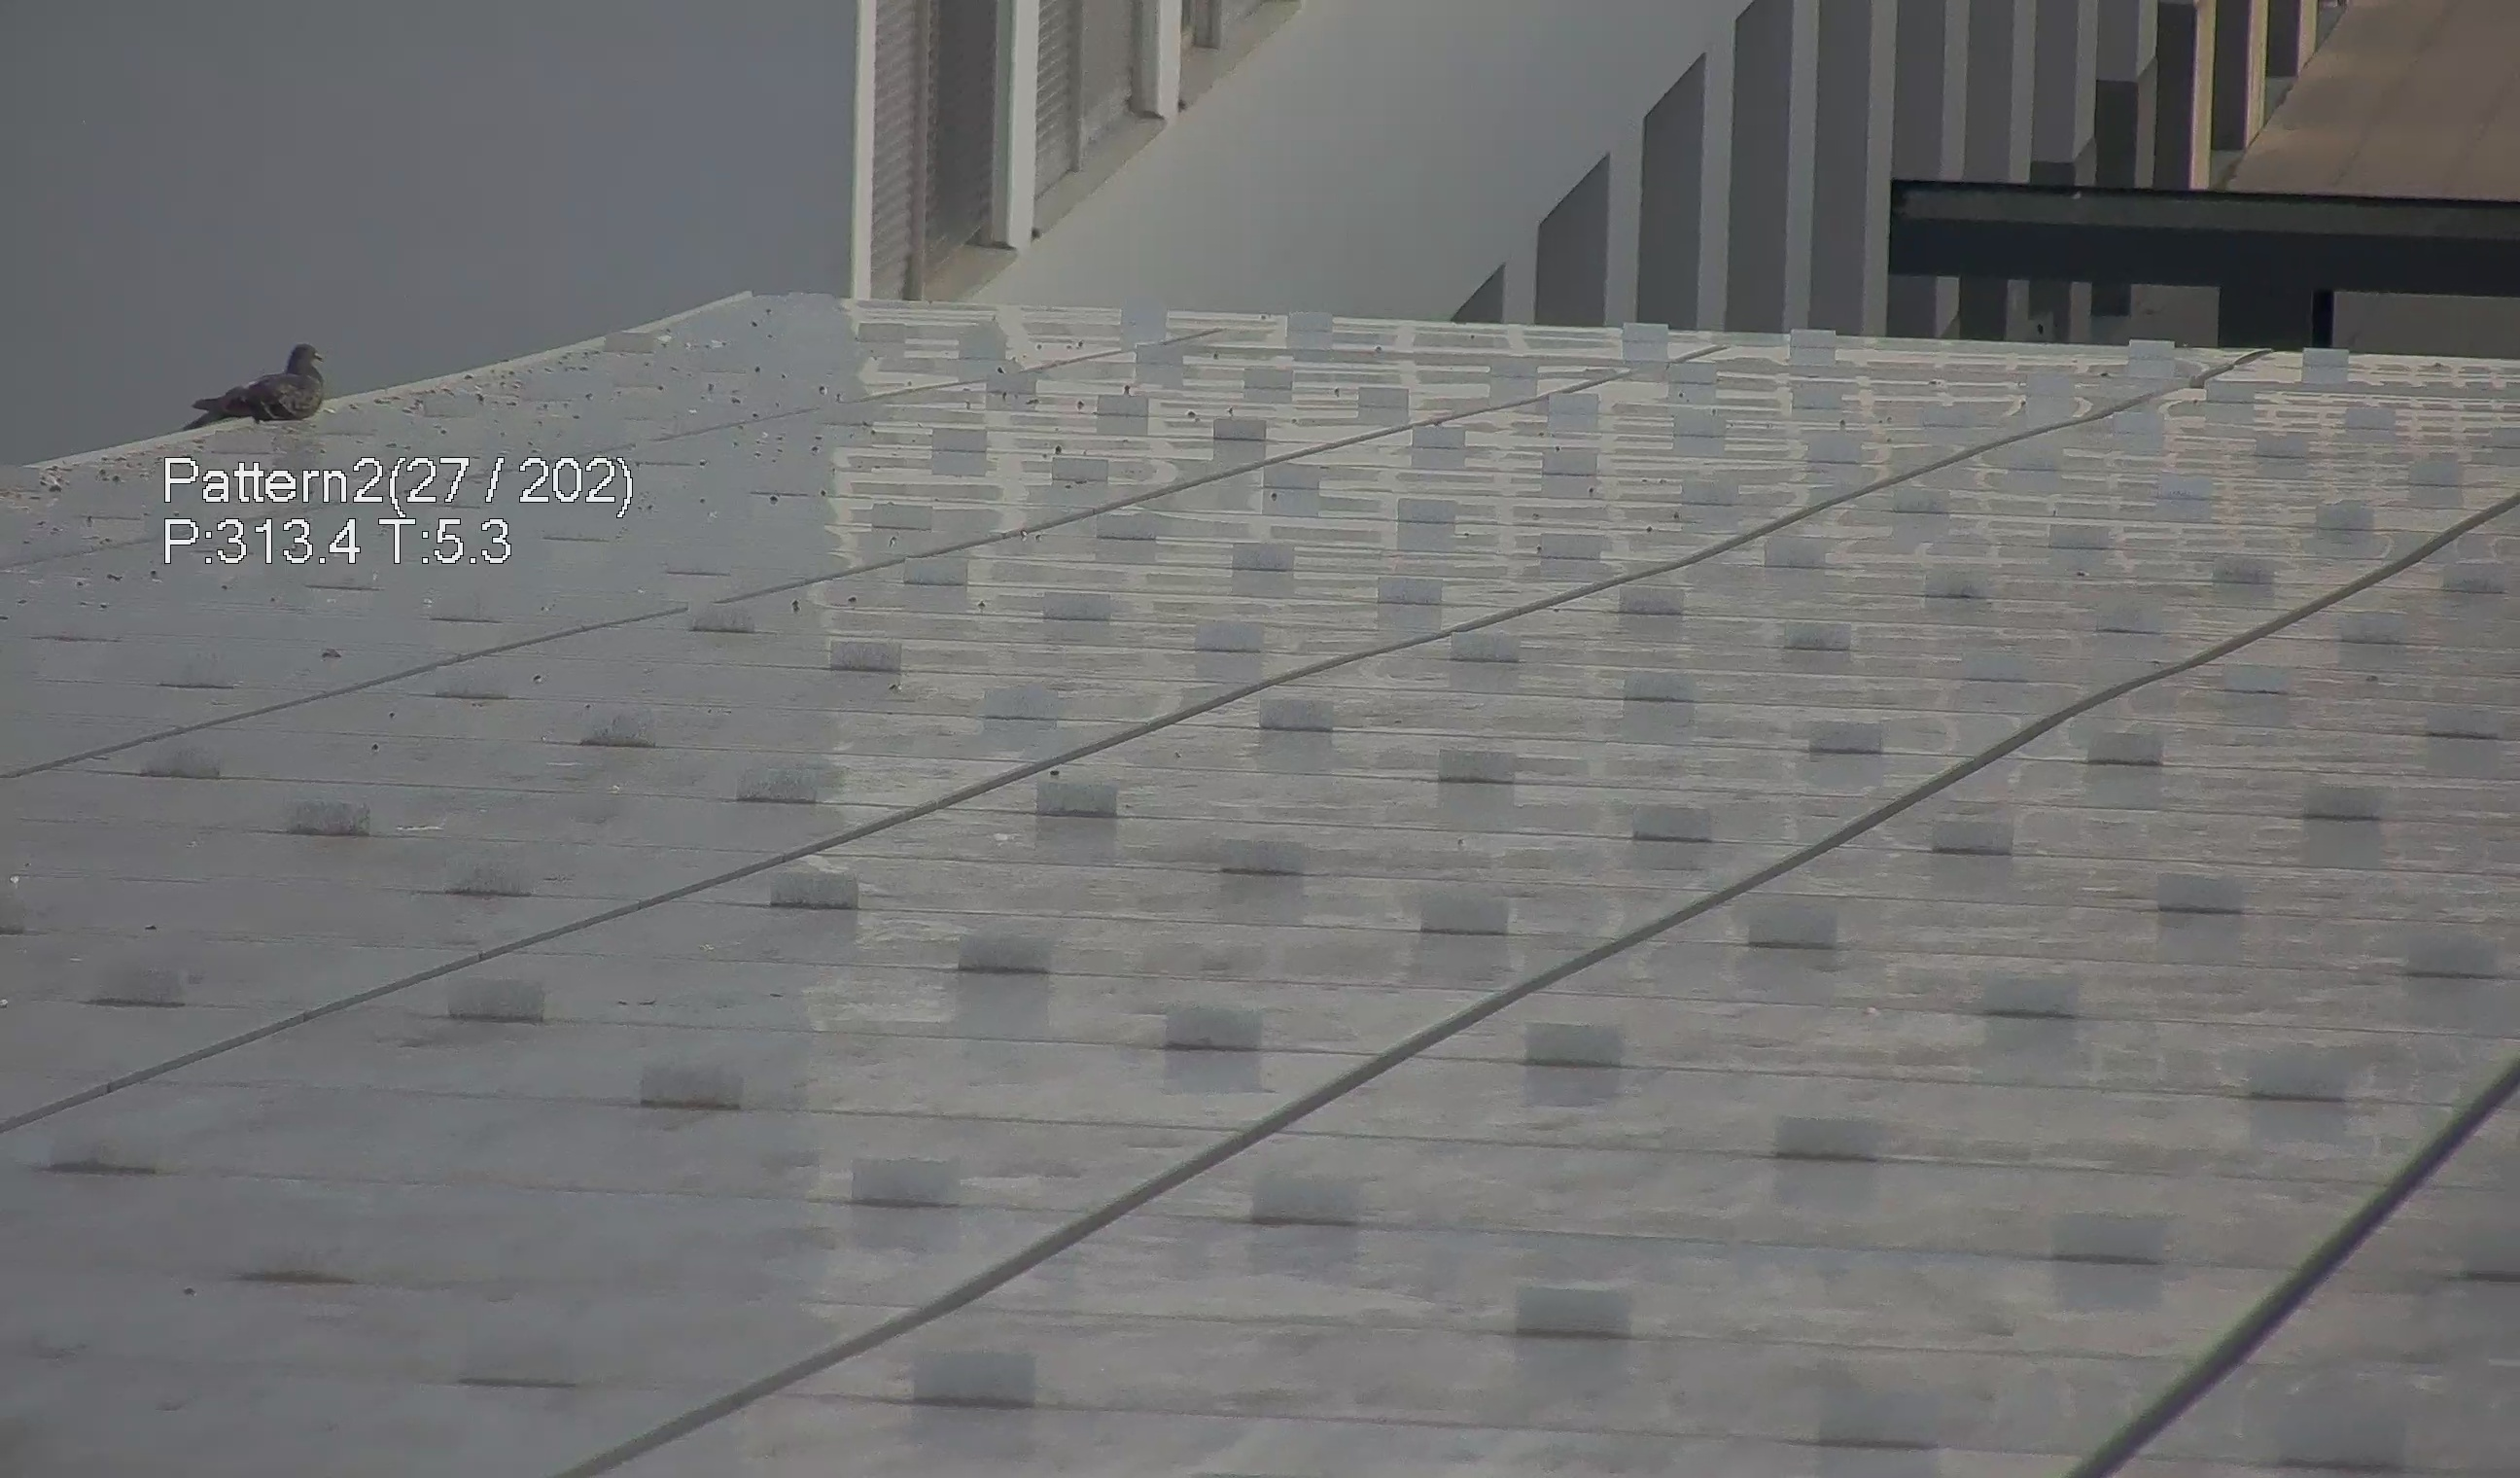Pigeon: (176, 329, 341, 440)
